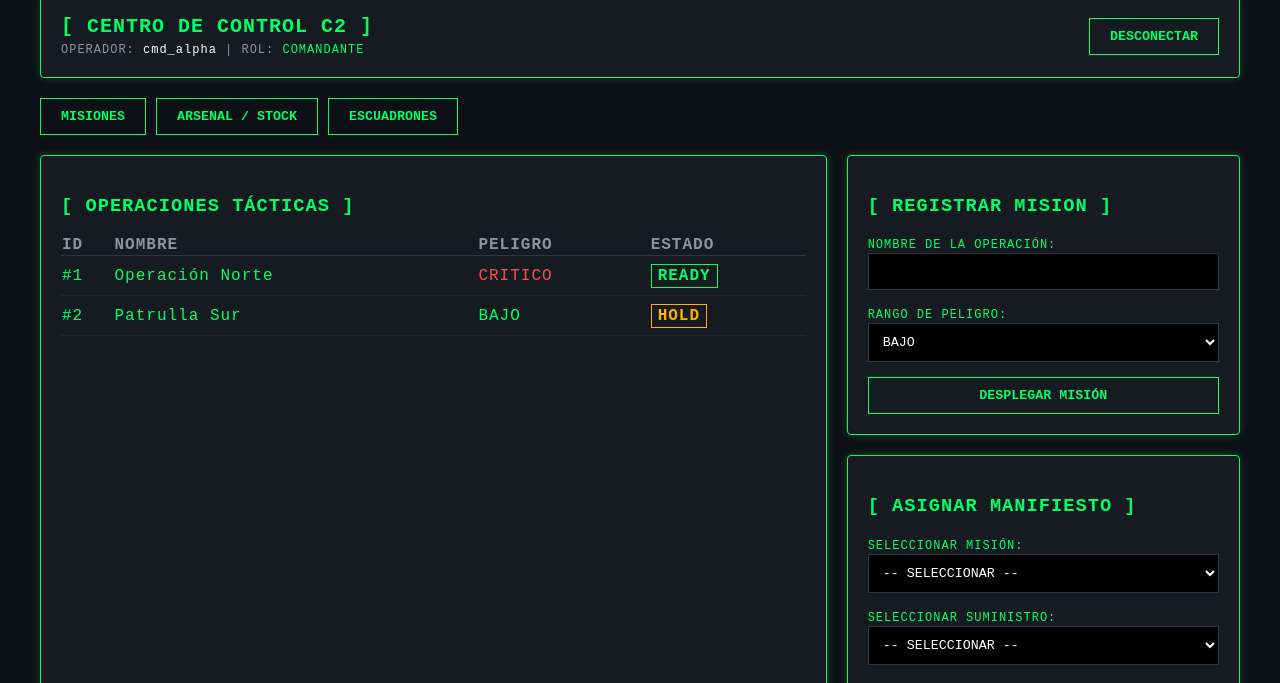
Test: Dashboard C2 y Subcomponentes (React) › muestra alertas cuando fallan las mutaciones POST de misión, manifiesto y suministro
Expected: the text "Operación Norte" is shown, 114,256 -> 477,296
In the field: coordinates (1043, 272) 868,253 -> 1219,290, type "Fallida"
Click the button "DESPLEGAR MISIÓN": coordinates (1043, 396) 868,377 -> 1219,414
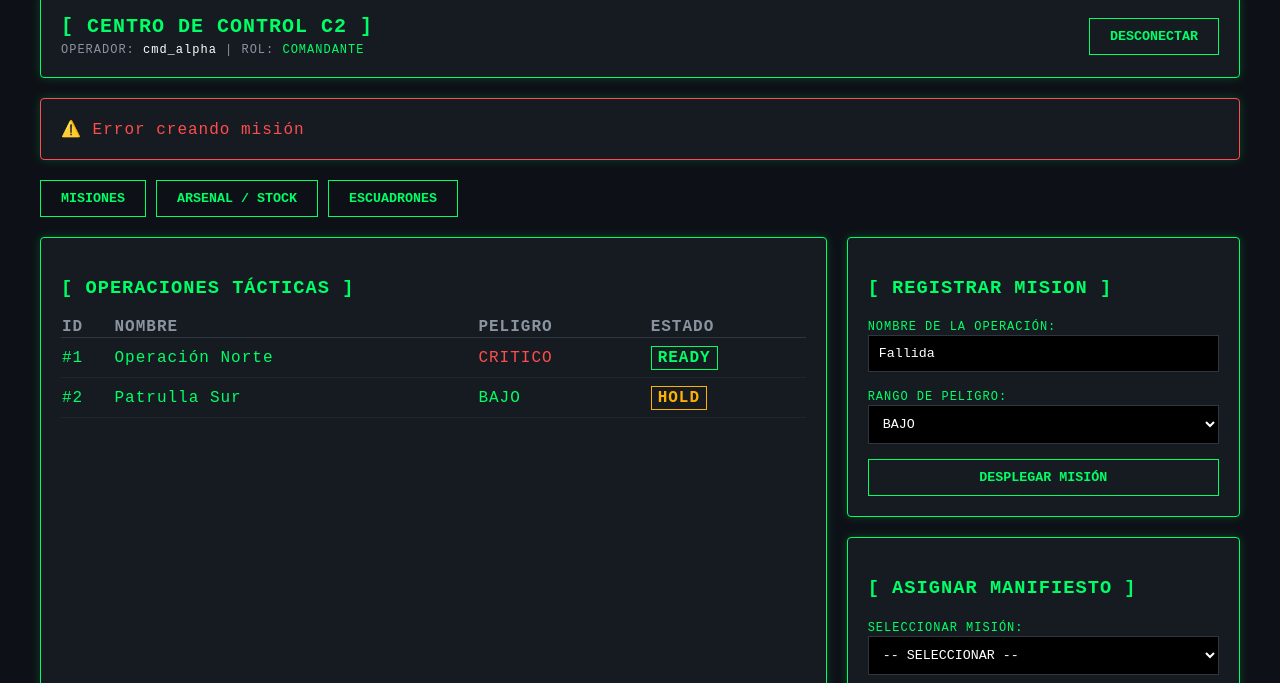
Expected: the text "⚠️ Error creando misión" is shown, 40,98 -> 1240,160
Select "#1 Operación Norte" in the dropdown below "SELECCIONAR MISIÓN:": coordinates (1043, 655) 868,636 -> 1219,675
(page scrolled)
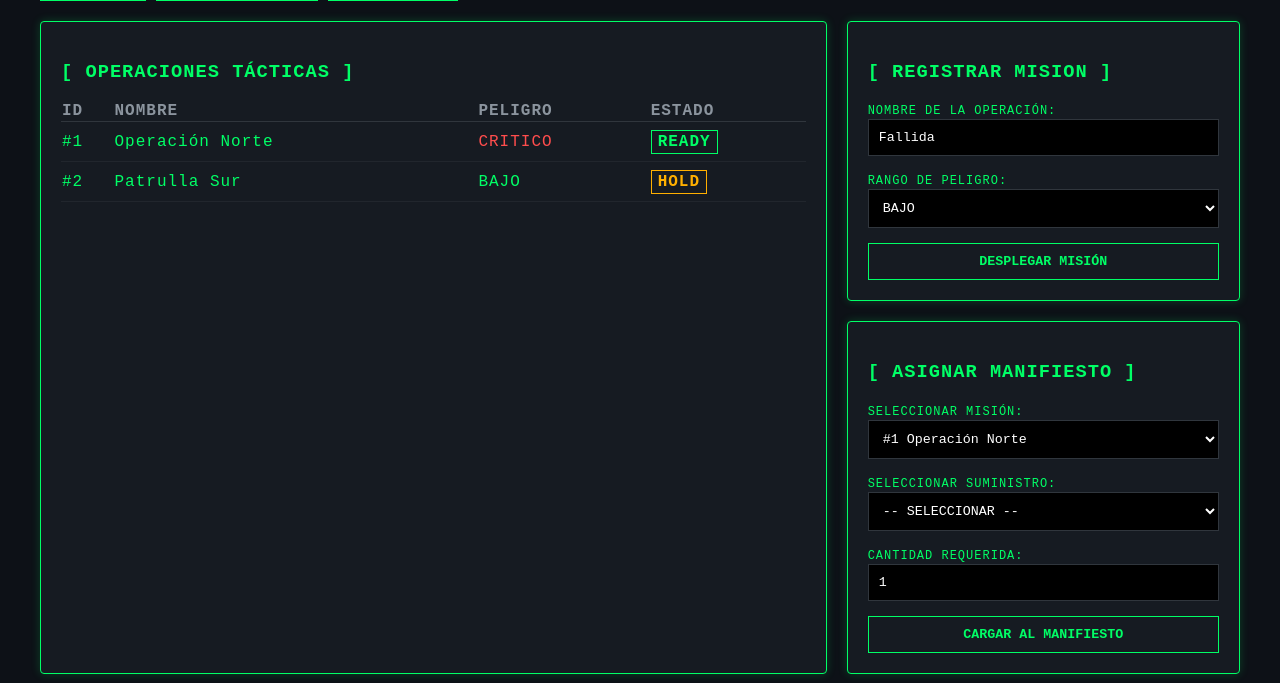
Select "Botiquín Táctico (Stock: 15)" in the 3rd dropdown: coordinates (1043, 511) 868,492 -> 1219,531
Click the button "CARGAR AL MANIFIESTO": coordinates (1043, 634) 868,616 -> 1219,653
(page scrolled)
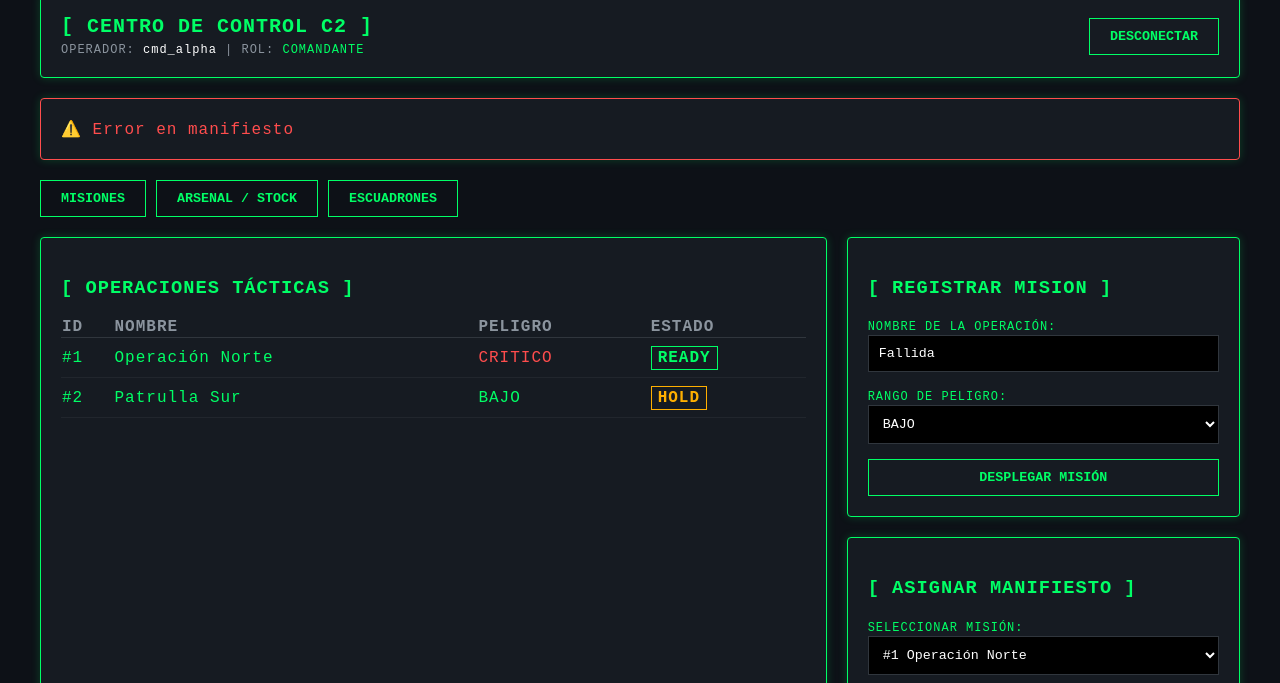
Expected: the text "⚠️ Error en manifiesto" is shown, 40,98 -> 1240,160
# Fallo al crear suministro
Click the button "ARSENAL / STOCK": coordinates (237, 198) 156,180 -> 318,217
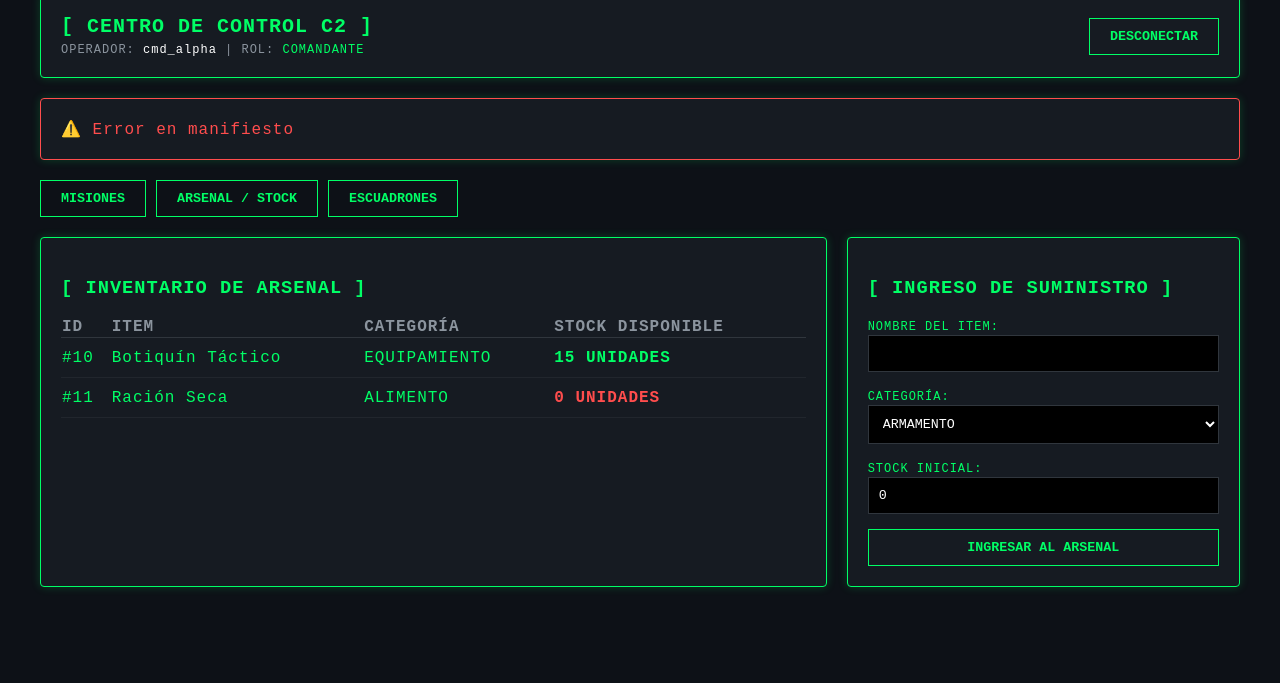
In the field: coordinates (1043, 354) 868,335 -> 1219,372, type "Item Fallido"
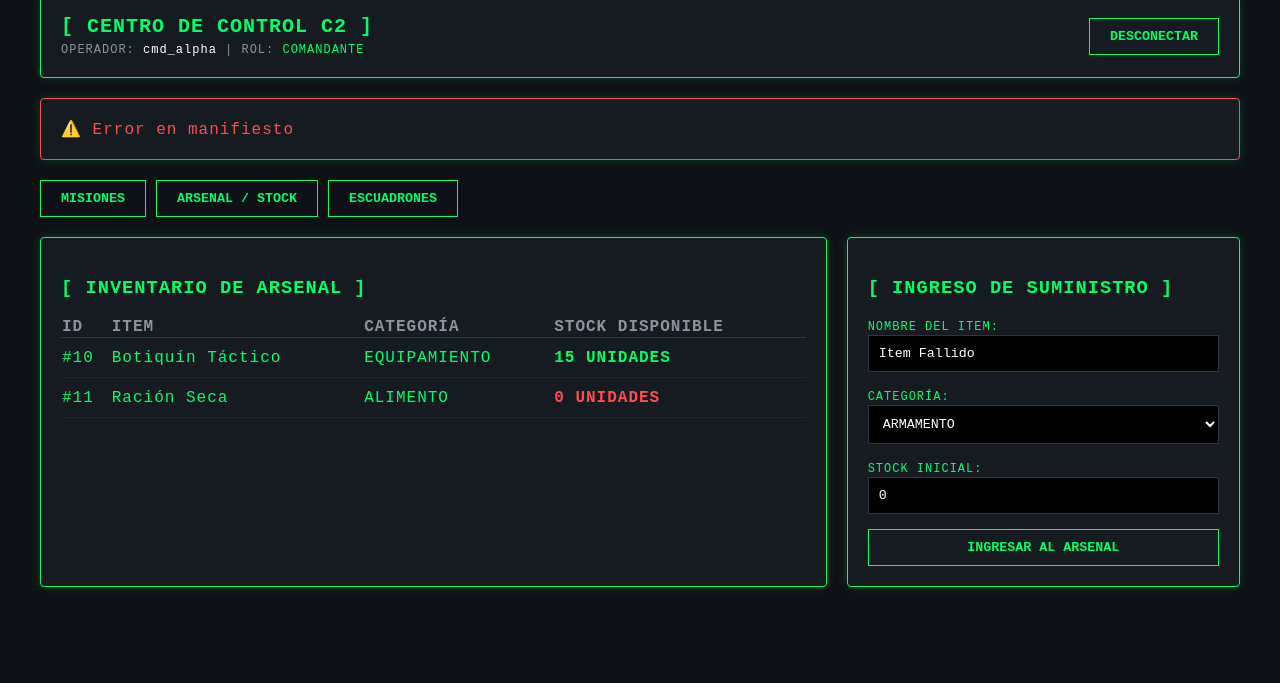
Click the button "INGRESAR AL ARSENAL": coordinates (1043, 548) 868,529 -> 1219,566
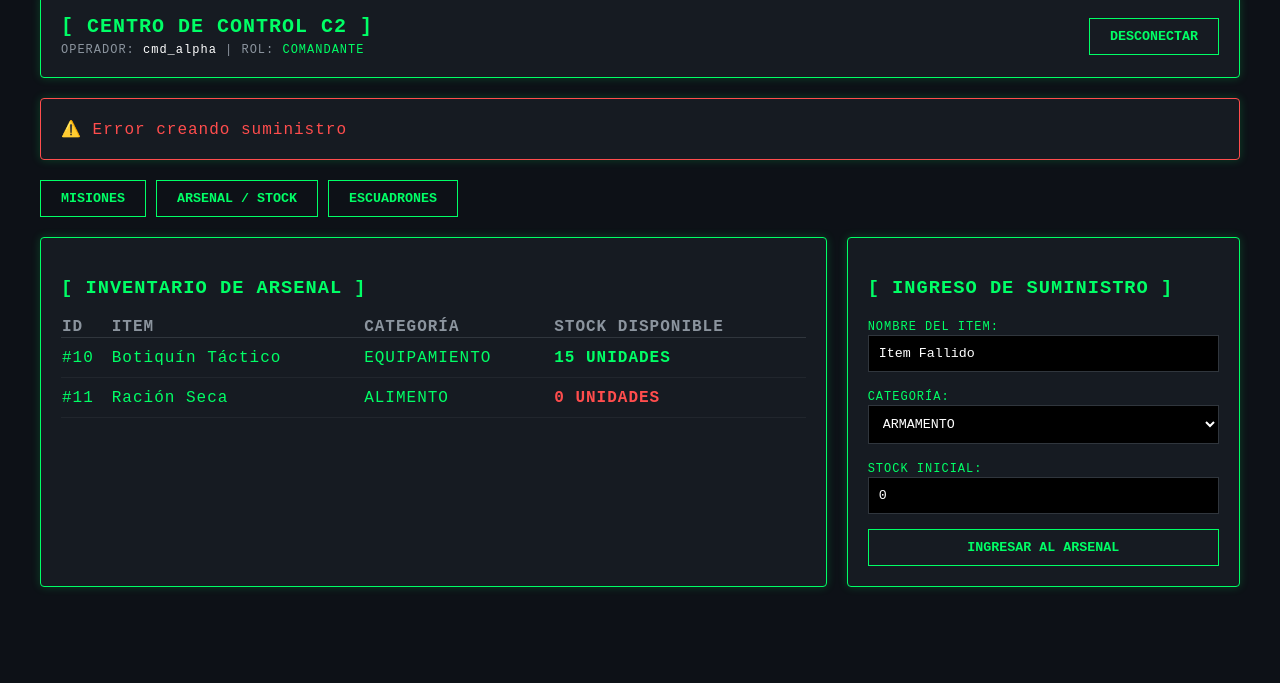
Expected: the text "⚠️ Error creando suministro" is shown, 40,98 -> 1240,160
